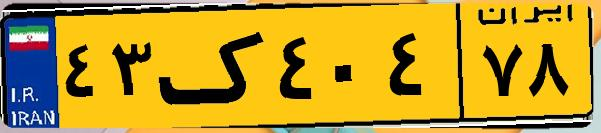0: (330, 28, 385, 110)
3: (110, 28, 158, 98)
4: (270, 28, 330, 110), (385, 28, 445, 110), (57, 26, 110, 100)
7: (475, 38, 525, 113)
8: (525, 38, 570, 115)
ک: (158, 12, 270, 120)
